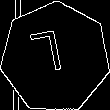L_S: (36, 30, 75, 85)
